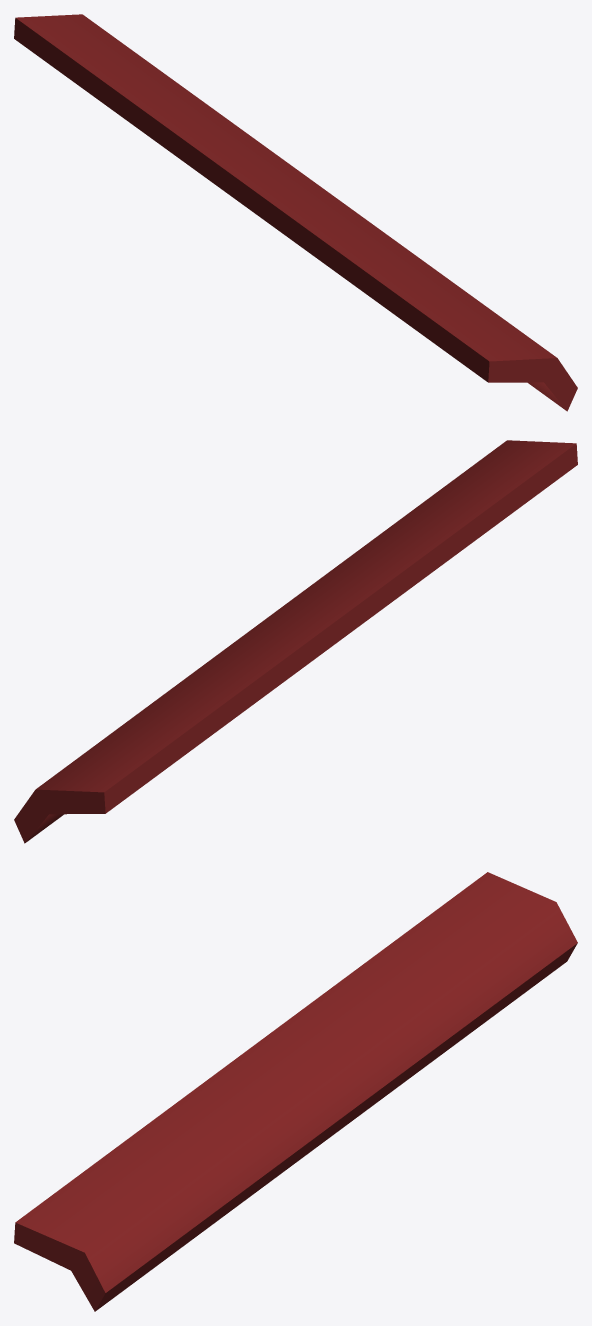
File: Canopy.fbx
The picture shows the model from 3 angles, top to bottom: view 1: azimuth 30°, elevation 25°; view 2: azimuth 150°, elevation 25°; view 3: azimuth 330°, elevation 25°; orthographic projection.
Parts seen in each view (by area): view 1: polySurface541; view 2: polySurface541; view 3: polySurface541.
Boxes of the visible parts, bbox=[...] form: polySurface541: bbox=[14, 14, 577, 411]; polySurface541: bbox=[14, 440, 577, 843]; polySurface541: bbox=[14, 872, 577, 1311].
Size of the model in its own units: 4.9 by 3.5 by 42.48.
